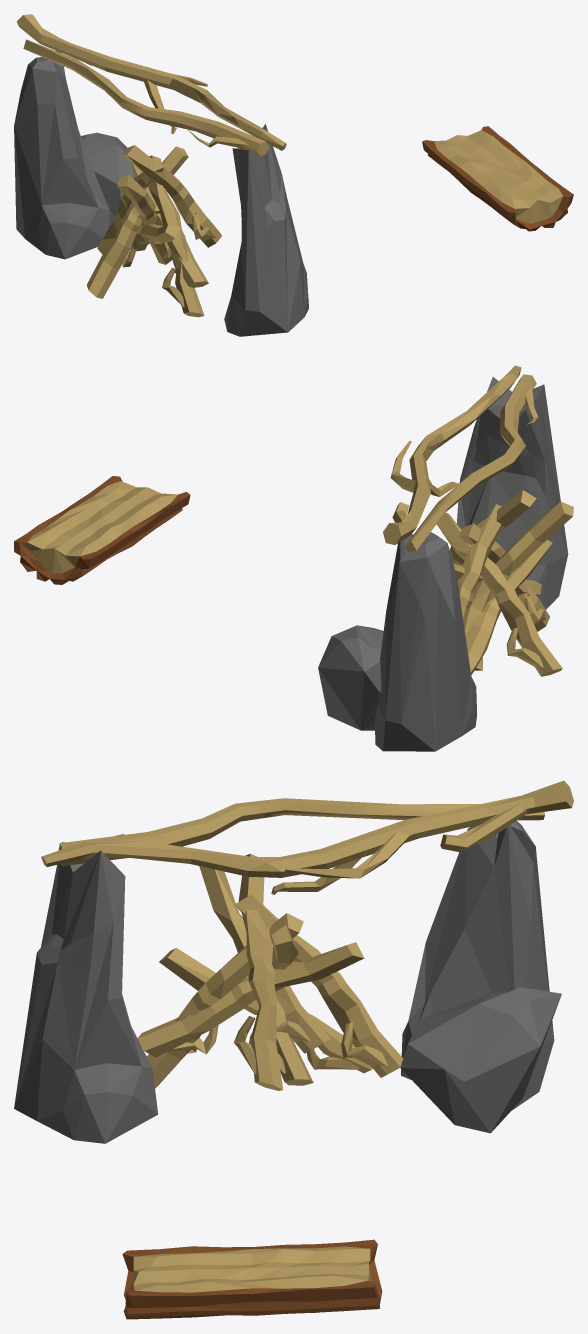
File: wood.glb
The picture shows the model from 3 angles, top to bottom: view 1: azimuth 30°, elevation 25°; view 2: azimuth 150°, elevation 25°; view 3: azimuth 270°, elevation 25°; orthographic projection. The views are drawn at different scales.
Parts seen in each view (by area): view 1: Icosphere.023, Icosphere.022, Cube.001_1, NurbsPath.005, NurbsPath.004, Cube.001_0, NurbsPath.009, Icosphere.005, NurbsPath.012, NurbsPath.008, NurbsPath.012_0.001, NurbsPath.011 (+2 smaller); view 2: Icosphere.023, Icosphere.022, Cube.001_1, Icosphere.005, NurbsPath.005, NurbsPath.009, NurbsPath.004, Cube.001_0, NurbsPath.011, NurbsPath.012_0.001, NurbsPath.013, NurbsPath.008 (+2 smaller); view 3: Icosphere.022, Icosphere.023, Icosphere.005, NurbsPath.005, Cube.001_1, Cube.001_0, NurbsPath.004, NurbsPath.010, NurbsPath.012, NurbsPath.013, NurbsPath.012_0.001, NurbsPath.008 (+3 smaller).
Part boxes in pixels (left/top/right/bottom): Icosphere.023: left=14, top=50, right=109, bottom=259; Icosphere.022: left=224, top=124, right=308, bottom=336; Cube.001_1: left=434, top=130, right=563, bottom=223; NurbsPath.005: left=16, top=14, right=286, bottom=150; NurbsPath.004: left=23, top=39, right=268, bottom=156; Cube.001_0: left=422, top=126, right=573, bottom=231; NurbsPath.009: left=87, top=146, right=188, bottom=298; Icosphere.005: left=81, top=132, right=135, bottom=228; NurbsPath.012: left=122, top=145, right=221, bottom=247; NurbsPath.008: left=148, top=155, right=204, bottom=317; NurbsPath.012_0.001: left=117, top=174, right=172, bottom=264; NurbsPath.011: left=97, top=224, right=180, bottom=267; Icosphere.023: left=375, top=532, right=477, bottom=751; Icosphere.022: left=450, top=377, right=568, bottom=609; Cube.001_1: left=27, top=481, right=177, bottom=573; Icosphere.005: left=318, top=625, right=383, bottom=730; NurbsPath.005: left=383, top=365, right=521, bottom=544; NurbsPath.009: left=436, top=512, right=562, bottom=676; NurbsPath.004: left=404, top=374, right=538, bottom=551; Cube.001_0: left=14, top=476, right=190, bottom=584; NurbsPath.011: left=465, top=539, right=552, bottom=674; NurbsPath.012_0.001: left=490, top=501, right=573, bottom=599; NurbsPath.013: left=457, top=504, right=501, bottom=629; NurbsPath.008: left=459, top=523, right=549, bottom=631; Icosphere.022: left=14, top=842, right=158, bottom=1143; Icosphere.023: left=401, top=821, right=554, bottom=1110; Icosphere.005: left=400, top=987, right=561, bottom=1133; NurbsPath.005: left=41, top=780, right=573, bottom=894; Cube.001_1: left=133, top=1246, right=371, bottom=1292; Cube.001_0: left=122, top=1239, right=382, bottom=1319; NurbsPath.004: left=58, top=798, right=544, bottom=865; NurbsPath.010: left=137, top=942, right=364, bottom=1057; NurbsPath.012: left=234, top=853, right=283, bottom=1090; NurbsPath.013: left=235, top=894, right=403, bottom=1077; NurbsPath.012_0.001: left=199, top=866, right=313, bottom=1085; NurbsPath.008: left=147, top=913, right=303, bottom=1088.
Size of the model in its own units: 6.66 by 3.16 by 5.17.
